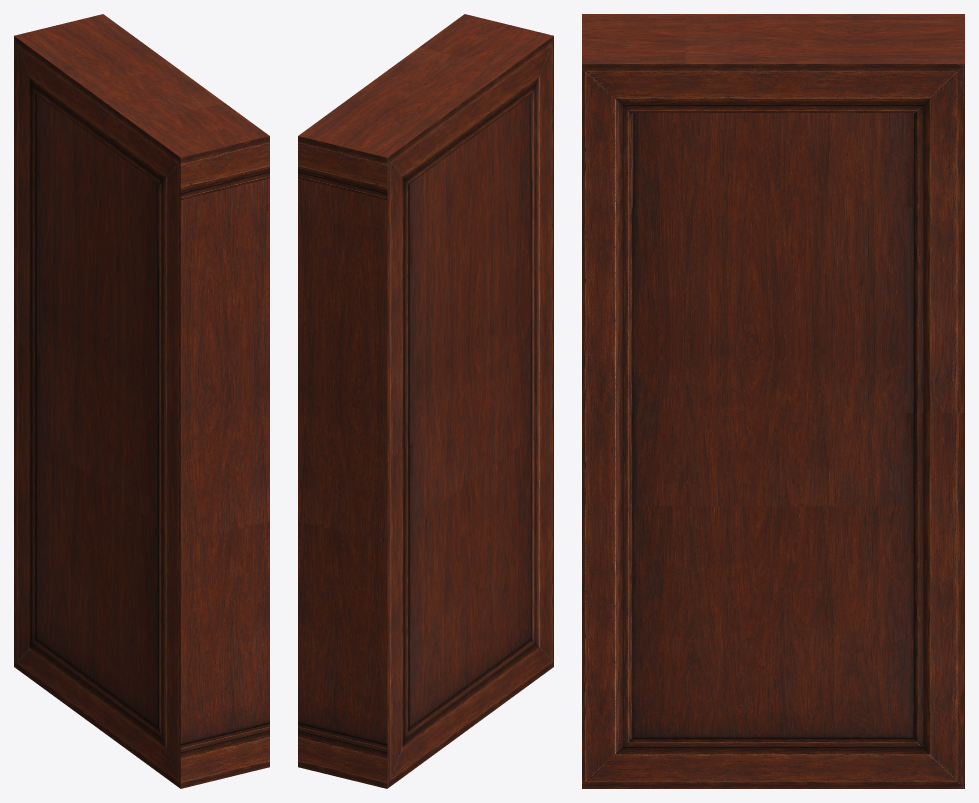
The model's file is shopWall.glb.
3 views of the same model, side by side, from view 1: azimuth 30°, elevation 25°; view 2: azimuth 150°, elevation 25°; view 3: azimuth 270°, elevation 25° (orthographic). The views are drawn at different scales.
Visible parts, largest first — view 1: Cube.002; view 2: Cube.002; view 3: Cube.002.
Part boxes in pixels (<box>): Cube.002: <box>14,14,269,788</box>; Cube.002: <box>298,14,553,788</box>; Cube.002: <box>582,14,964,788</box>.
Size of the model in its own units: 0.0887 by 0.6 by 0.287.
1 material, 1 textured.
